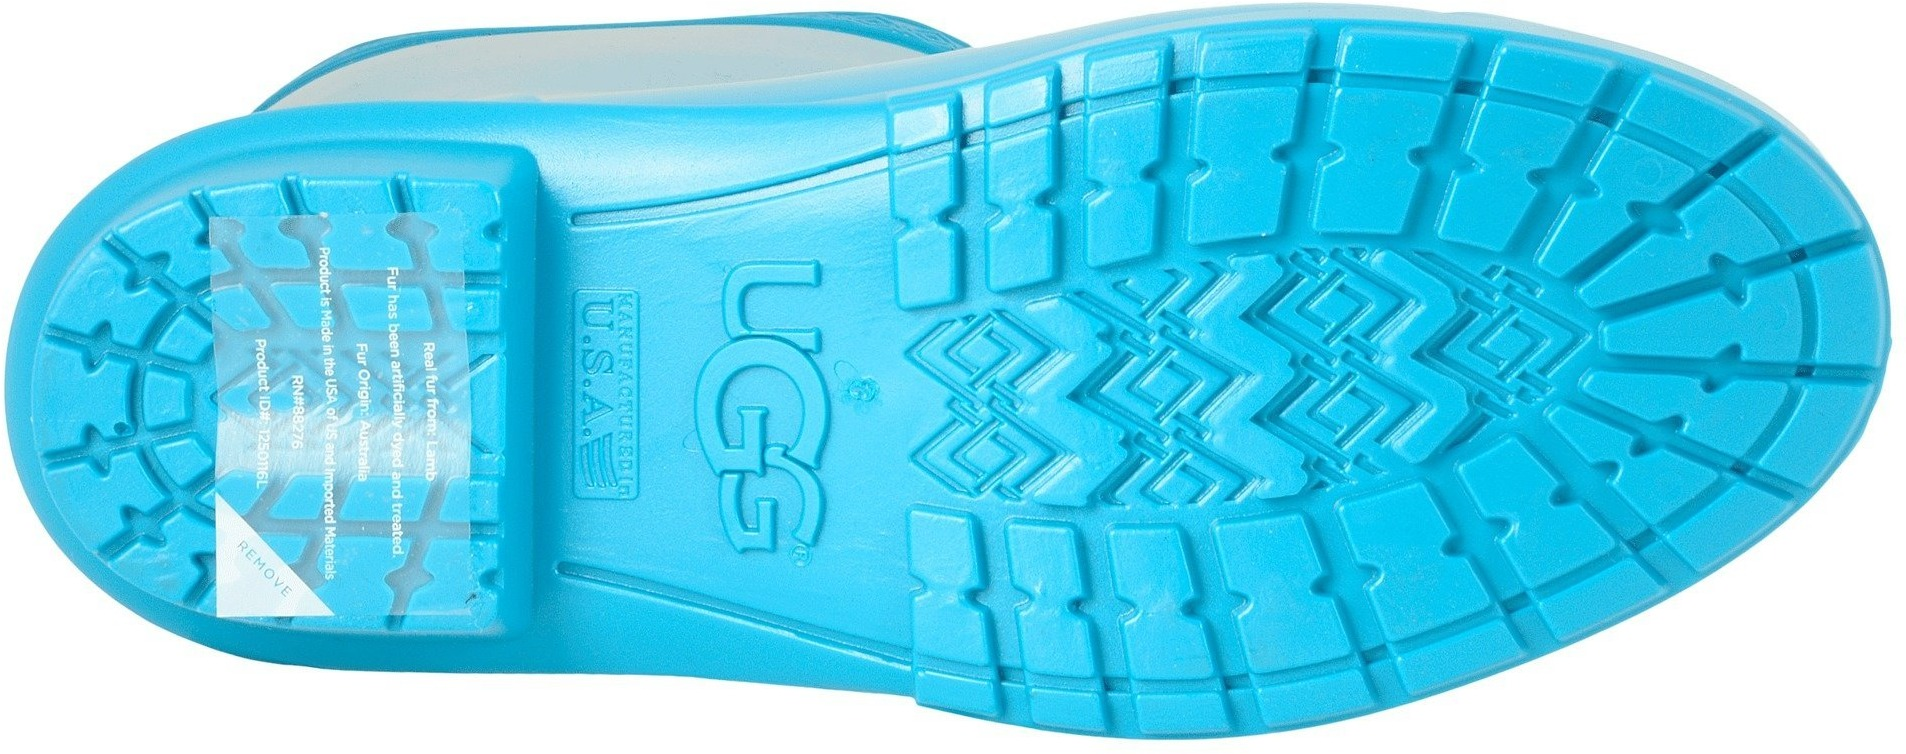bowtie: (1577, 206, 1825, 449), (1004, 507, 1219, 691), (980, 94, 1167, 296), (1282, 83, 1473, 238), (44, 321, 204, 482)
chevron: (1141, 263, 1374, 486), (921, 285, 1155, 502), (1344, 252, 1602, 441)
circle: (679, 249, 906, 575)
exclude: (203, 179, 500, 636), (495, 161, 671, 658)
quad: (921, 285, 1155, 502), (1344, 252, 1602, 441)
text: (679, 249, 906, 575), (686, 328, 842, 474), (703, 451, 838, 576), (707, 244, 840, 367)
